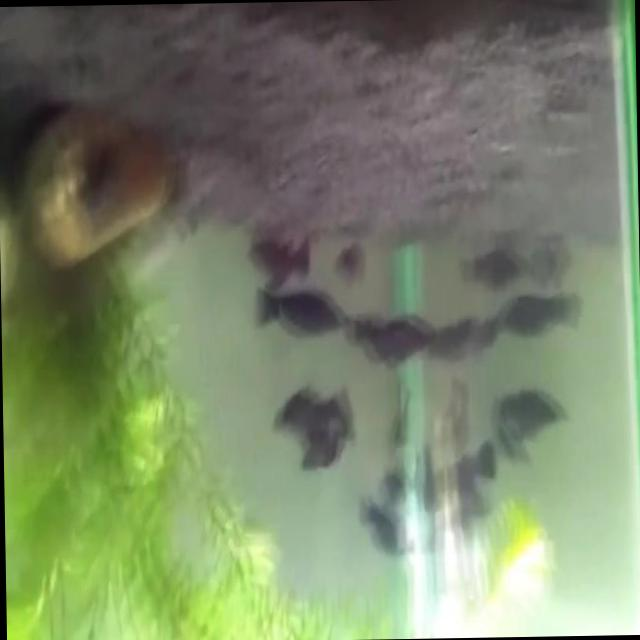PlatyFish: (242, 278, 345, 350)
